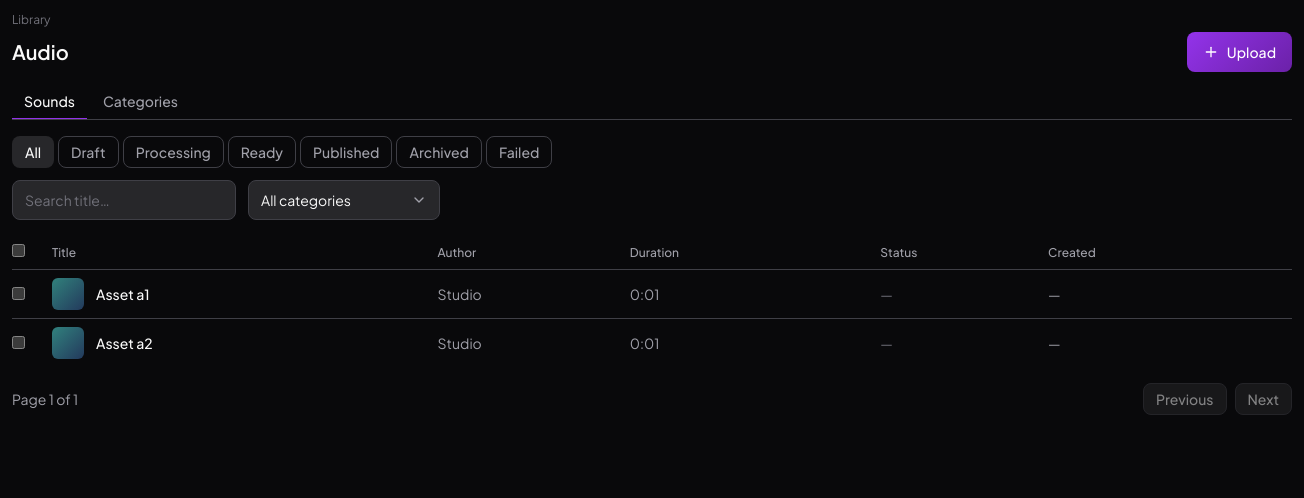
Test case: AssetsPageContent selection and pagination › select-all only selects the currently visible page, not every loaded row
This screenshot has width=1304, height=498.
What coordinates should you click on to do the following:
click the checkbox named "select all"
I would click on:
 (18, 250)
Its box is [12,244,25,257].
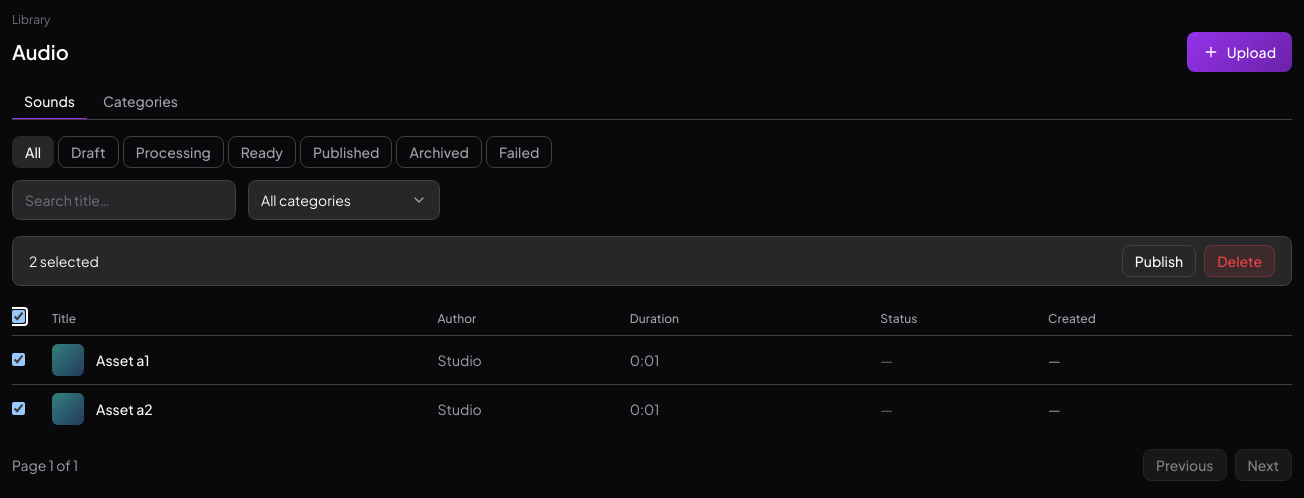
Expected: the text "2 selected" is shown, [29,251,99,271]
